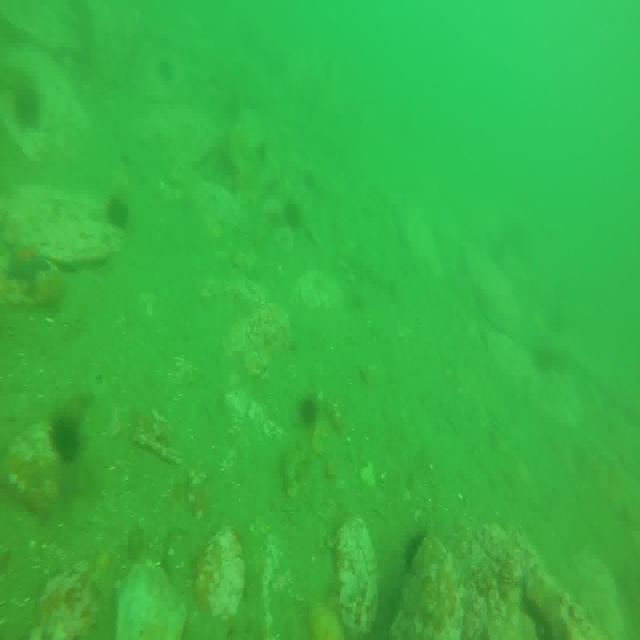echinus: (53, 409, 80, 457), (13, 82, 37, 130), (107, 193, 127, 225), (300, 396, 319, 426), (286, 201, 304, 232)
starfish: (6, 240, 51, 286)
